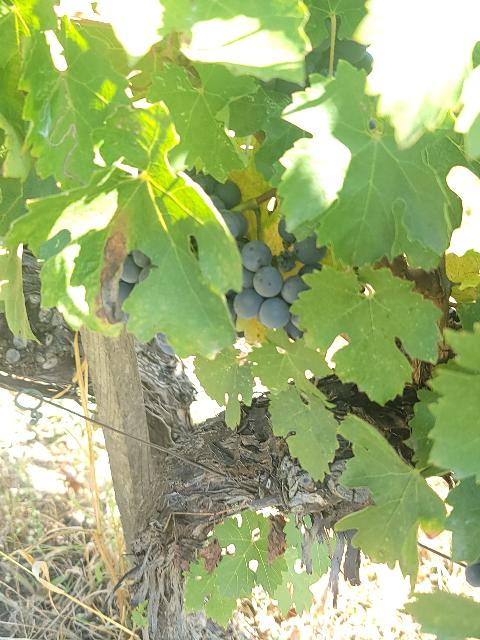grapes: (231, 220, 326, 339), (191, 172, 249, 249)
